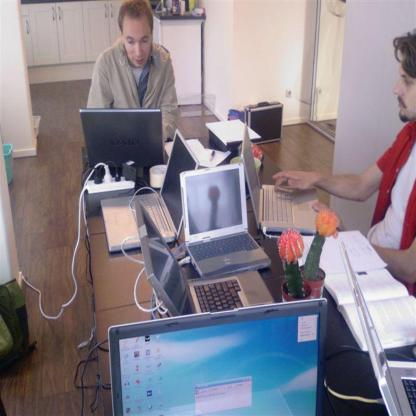board: (106, 304, 341, 414), (136, 197, 276, 316), (338, 240, 416, 416), (100, 128, 200, 253), (179, 162, 273, 278), (242, 122, 319, 234), (79, 107, 167, 170)
